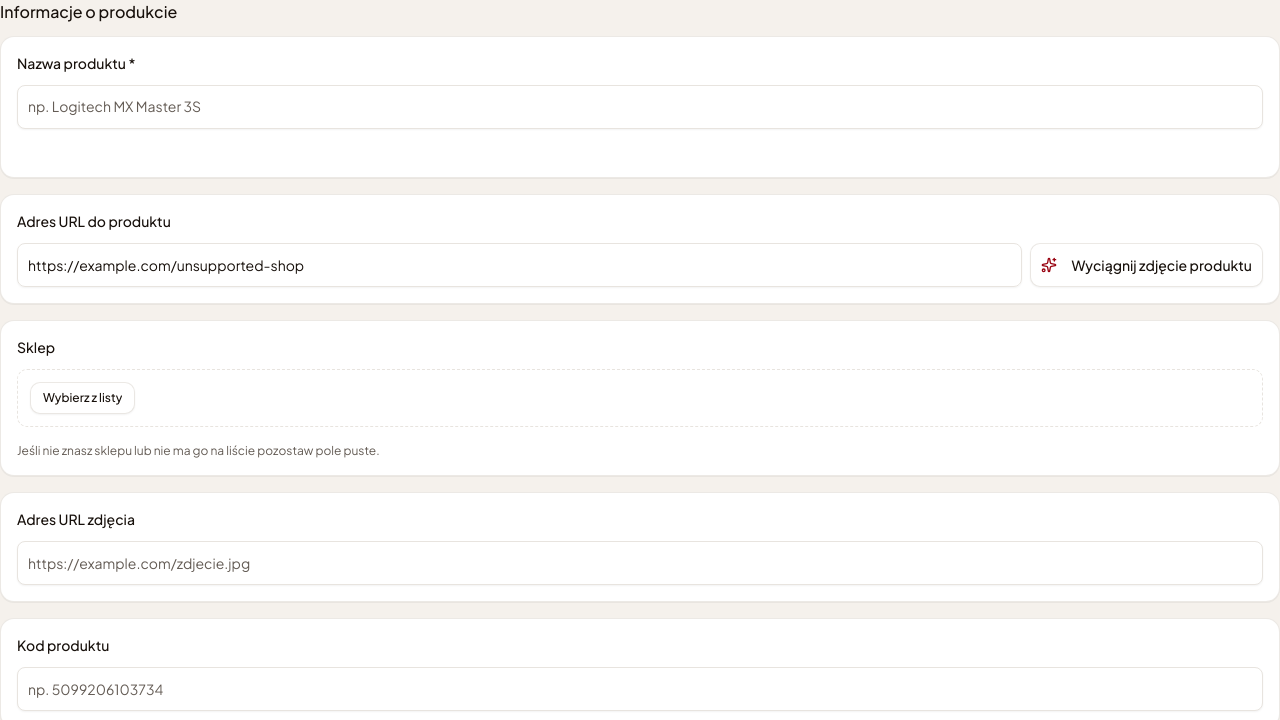
Scenario: app/opinie/dodaj/_components/ProductFields › displays non-blocking error message when scraper fails
What coordinates should you click on to do the following:
click the button "Wyciągnij zdjęcie produktu"
I would click on:
 (1147, 265)
Its box is x1=1030 y1=243 x2=1263 y2=287.
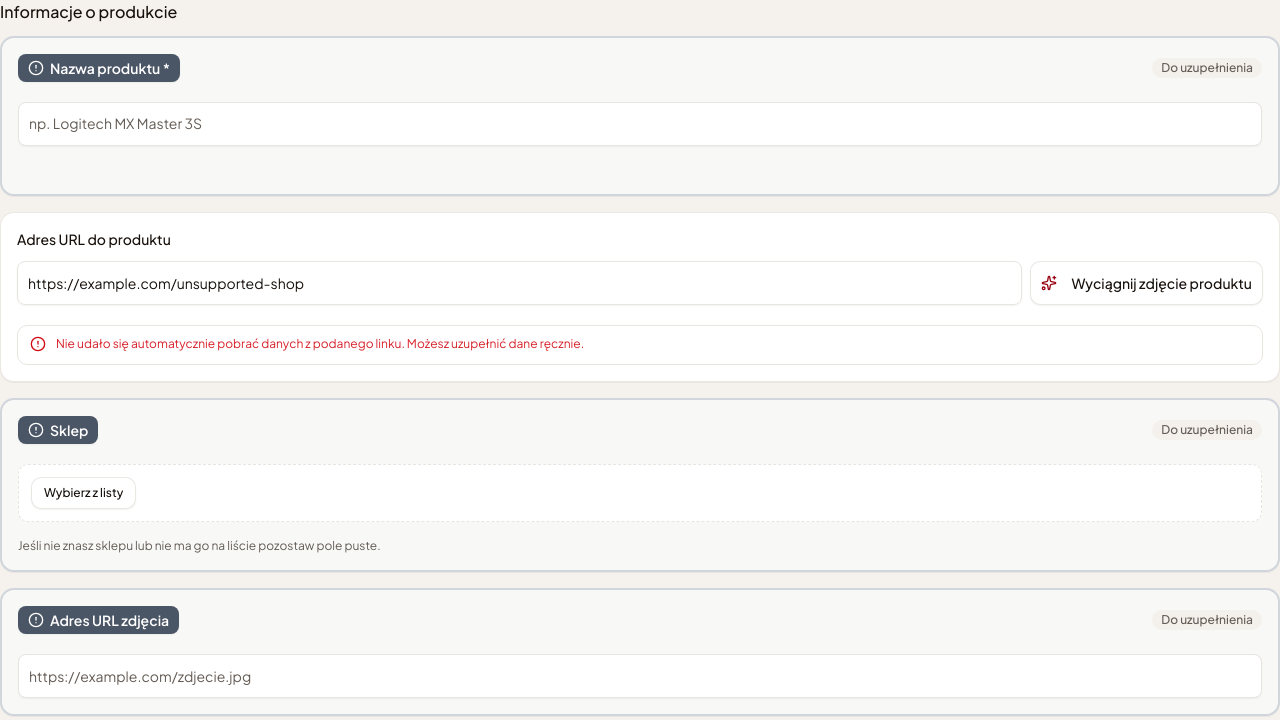
Expected: the text "Nie udało się automatycznie pobrać danych z podanego linku. Możesz uzupełnić dane ręcznie." is shown, x1=56 y1=336 x2=584 y2=351
